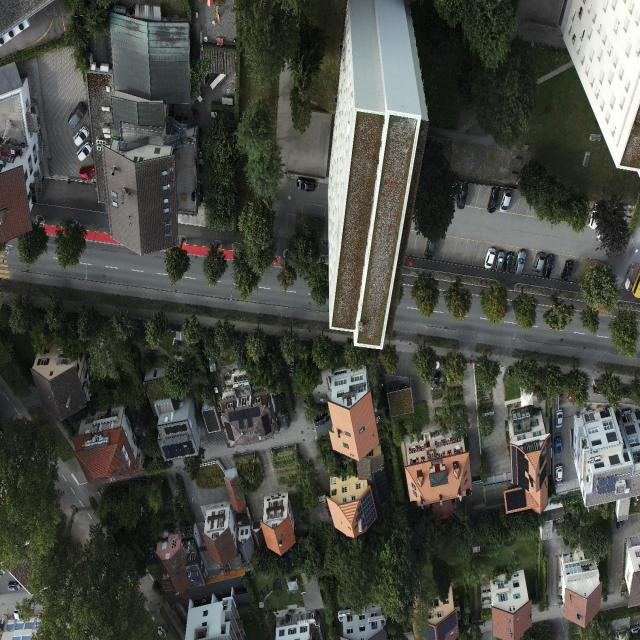panneaux_solaires: (512, 446, 532, 488), (227, 407, 262, 430), (356, 490, 376, 530), (162, 440, 196, 460), (539, 436, 551, 488), (436, 613, 457, 639), (505, 489, 527, 512), (596, 476, 616, 495), (164, 424, 187, 435), (428, 626, 436, 640)
passage_pieton: (0, 249, 11, 280)
